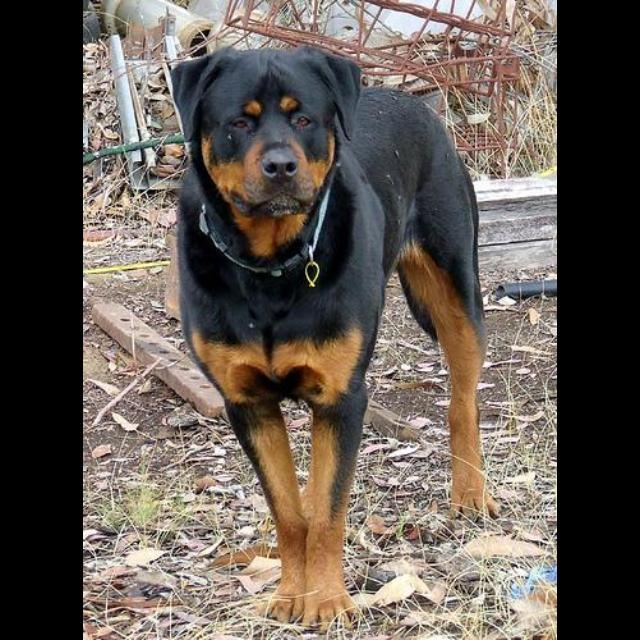rottweiler: (169, 45, 501, 632)
